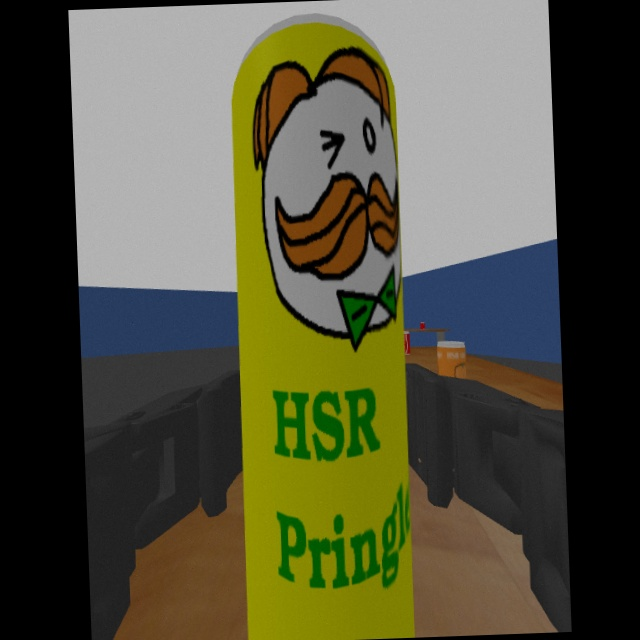chipsdose_gelb: (230, 13, 415, 640)
